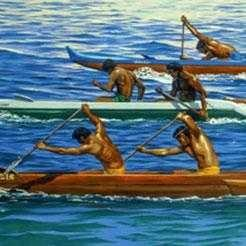kayak: (1, 106, 245, 199)
